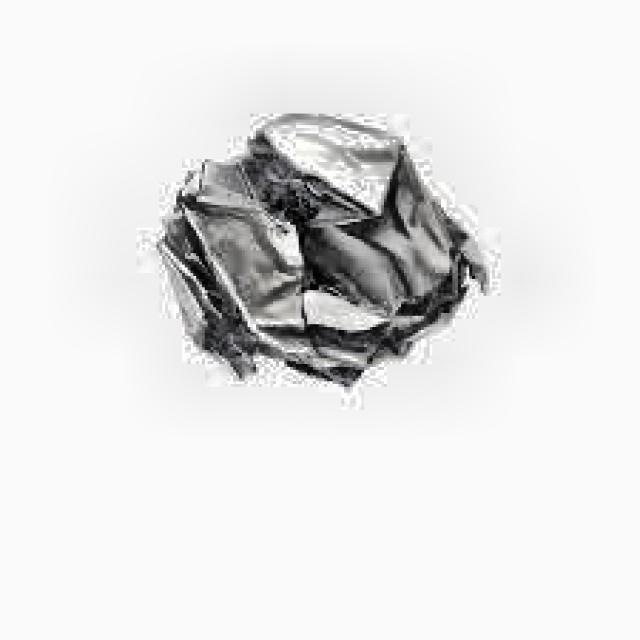Foil: (132, 93, 526, 402)
